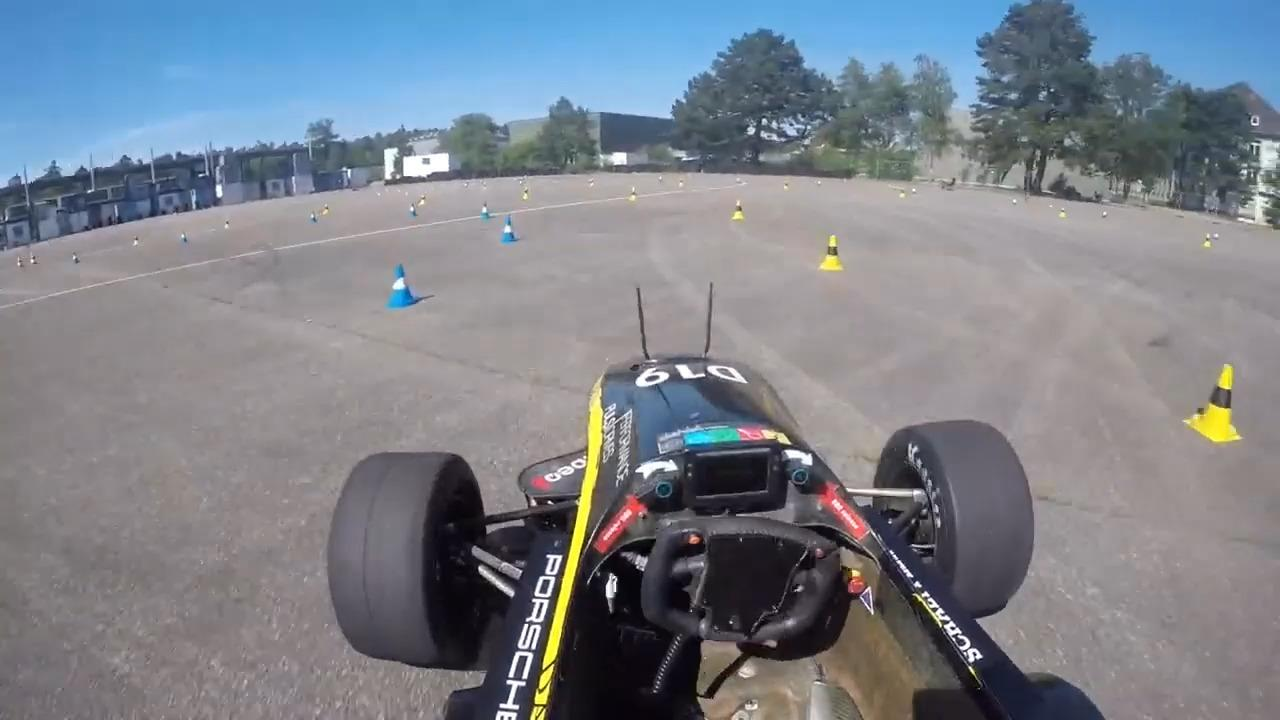blue_cone: (388, 262, 422, 310), (501, 215, 519, 245), (480, 200, 492, 220)
yellow_cone: (1185, 363, 1242, 443), (820, 234, 845, 272), (731, 199, 746, 220)
